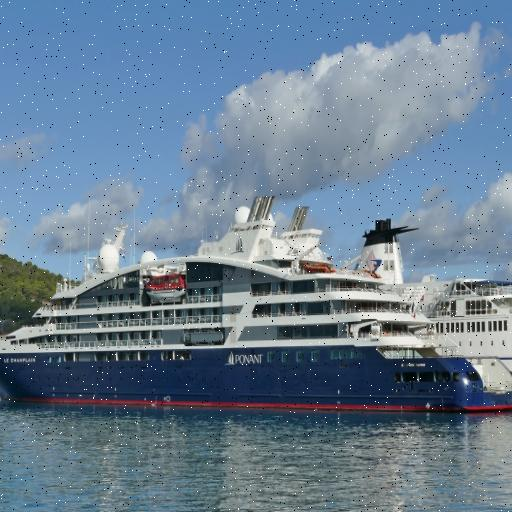cruises: (1, 192, 512, 420)
